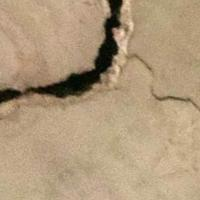crack: (0, 0, 196, 130)
